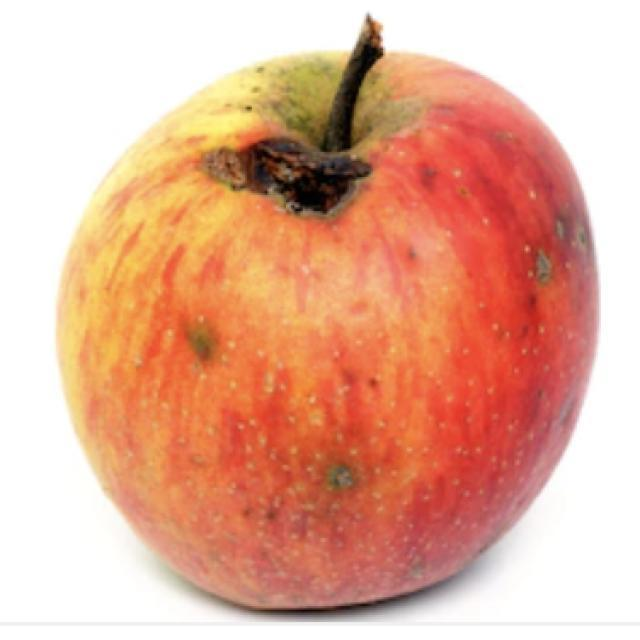Rotten: (47, 35, 598, 614)
